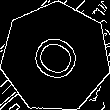O_SE: (23, 26, 88, 88)
